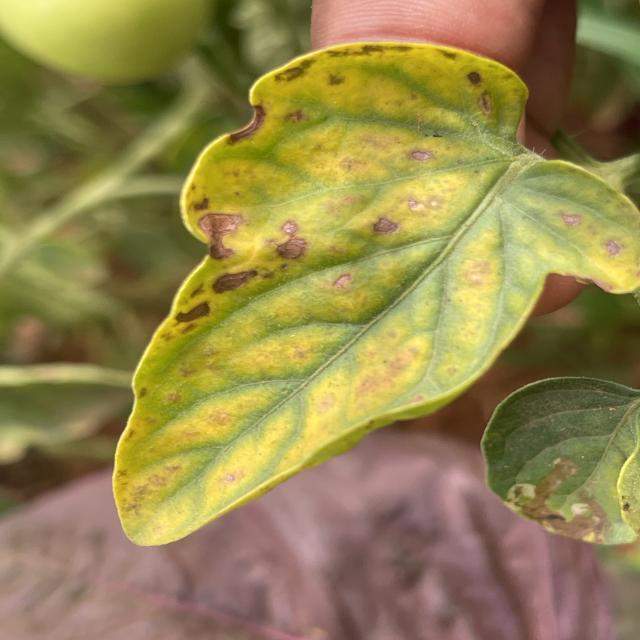tomato_early blight: (108, 40, 640, 547), (478, 376, 640, 543)
